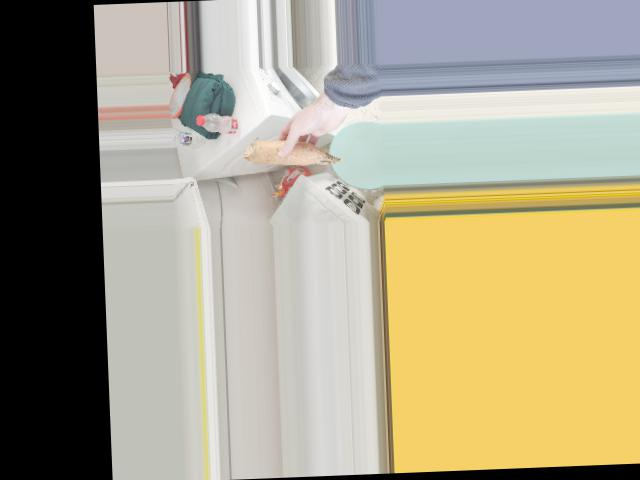sweet_potato: (239, 131, 342, 169)
